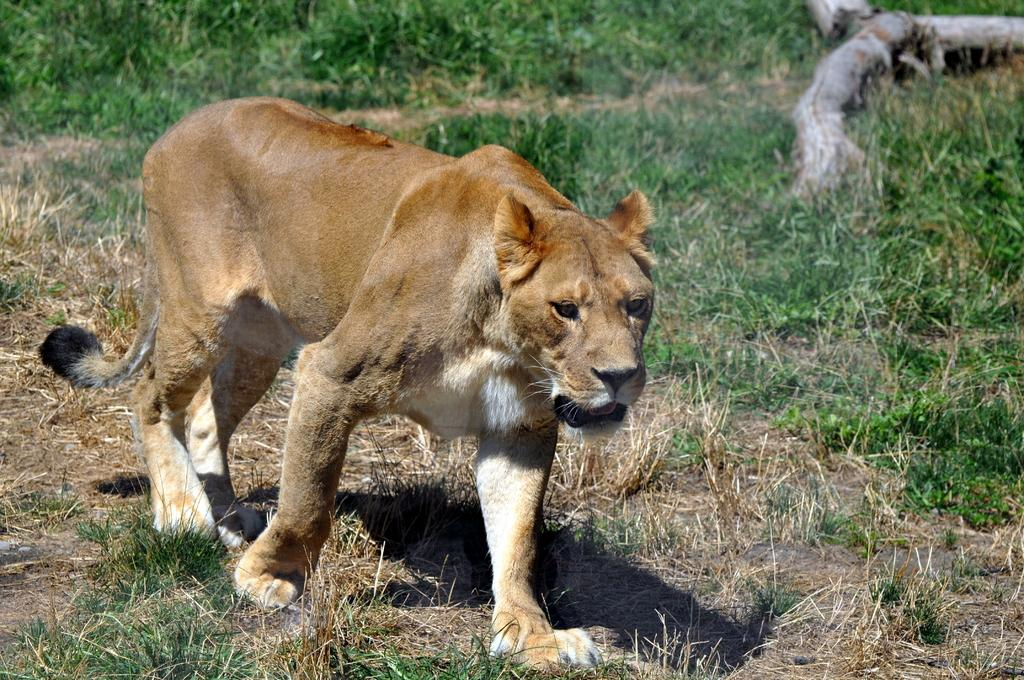lions: (39, 87, 654, 647)
